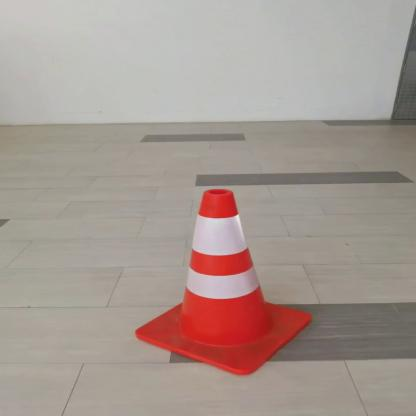cone: (130, 186, 320, 378)
